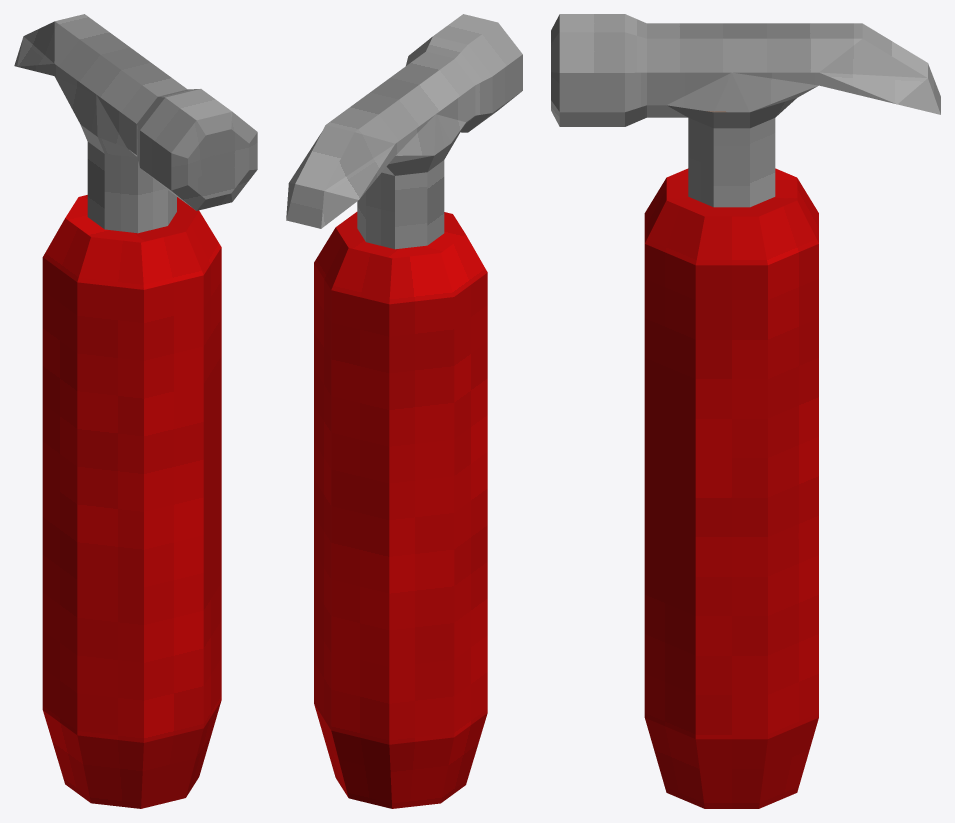
The model's file is hammer.gltf.
3 renders of one model, left to right at view 1: azimuth 30°, elevation 25°; view 2: azimuth 150°, elevation 25°; view 3: azimuth 270°, elevation 25°, orthographic. The views are drawn at different scales.
Parts seen in each view (by area): view 1: circle; view 2: circle; view 3: circle.
Part boxes in pixels (<box>): circle: <box>14,14,257,808</box>; circle: <box>286,14,522,808</box>; circle: <box>551,14,940,808</box>.
Size of the model in its own units: 0.125 by 0.6 by 0.2796.
Materials: 1 (1 with a texture image).
